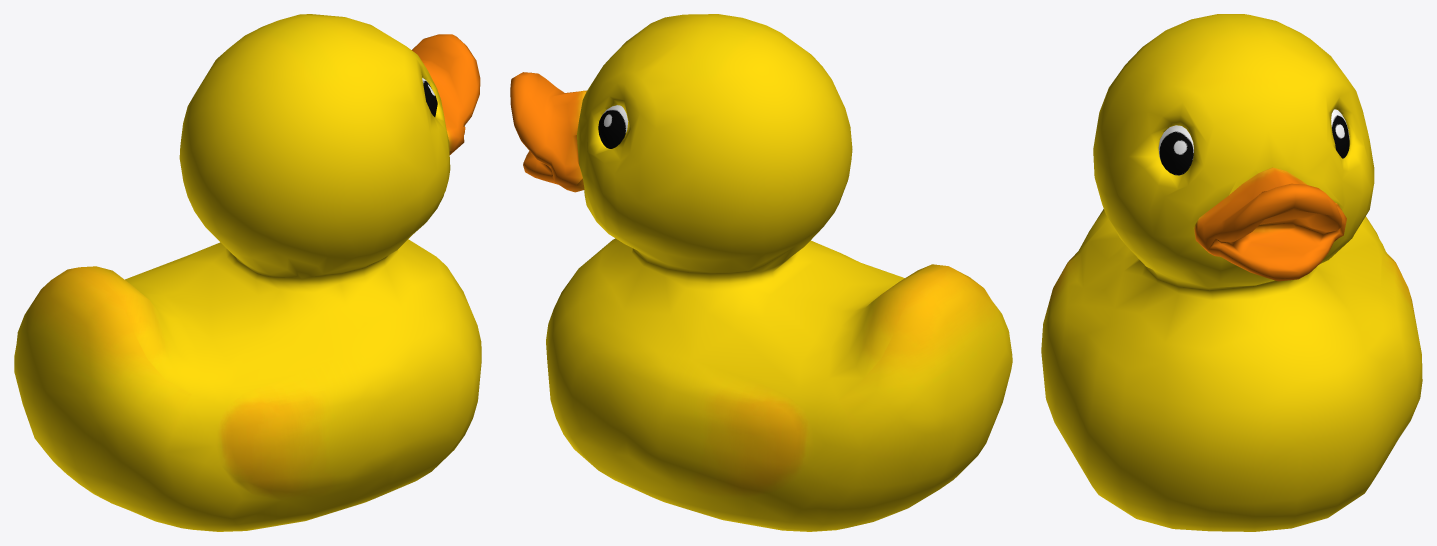
File: duck.glb
The picture shows the model from 3 angles, left to right: view 1: azimuth 30°, elevation 25°; view 2: azimuth 150°, elevation 25°; view 3: azimuth 270°, elevation 25°; orthographic projection. The views are drawn at different scales.
Visible parts, largest first — view 1: LOD3spShape; view 2: LOD3spShape; view 3: LOD3spShape.
Boxes of the visible parts, x1,y1,x2,y2 form: LOD3spShape: [14, 14, 481, 531]; LOD3spShape: [510, 14, 1012, 531]; LOD3spShape: [1041, 14, 1422, 531].
Bounding box in the file's own units: 1.65 × 1.54 × 1.15.
Materials: 1 (1 with a texture image).
